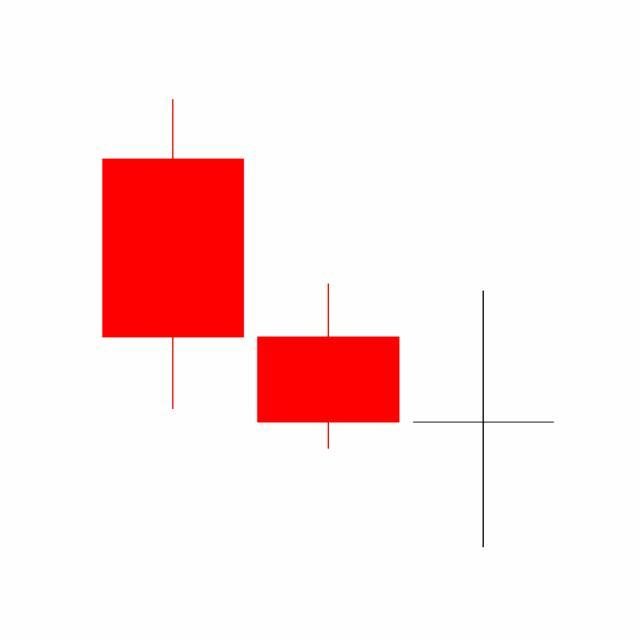Spinning Top: (406, 288, 562, 551)
